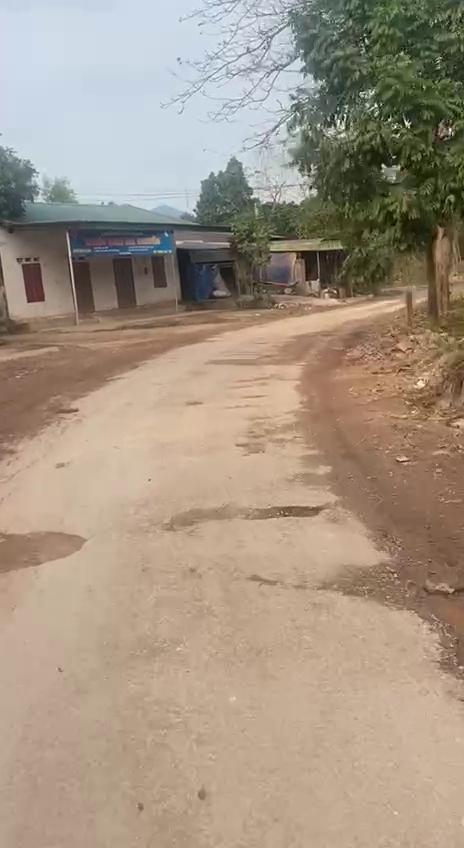pothole: (385, 550, 464, 678), (158, 502, 324, 534), (0, 526, 96, 579)
